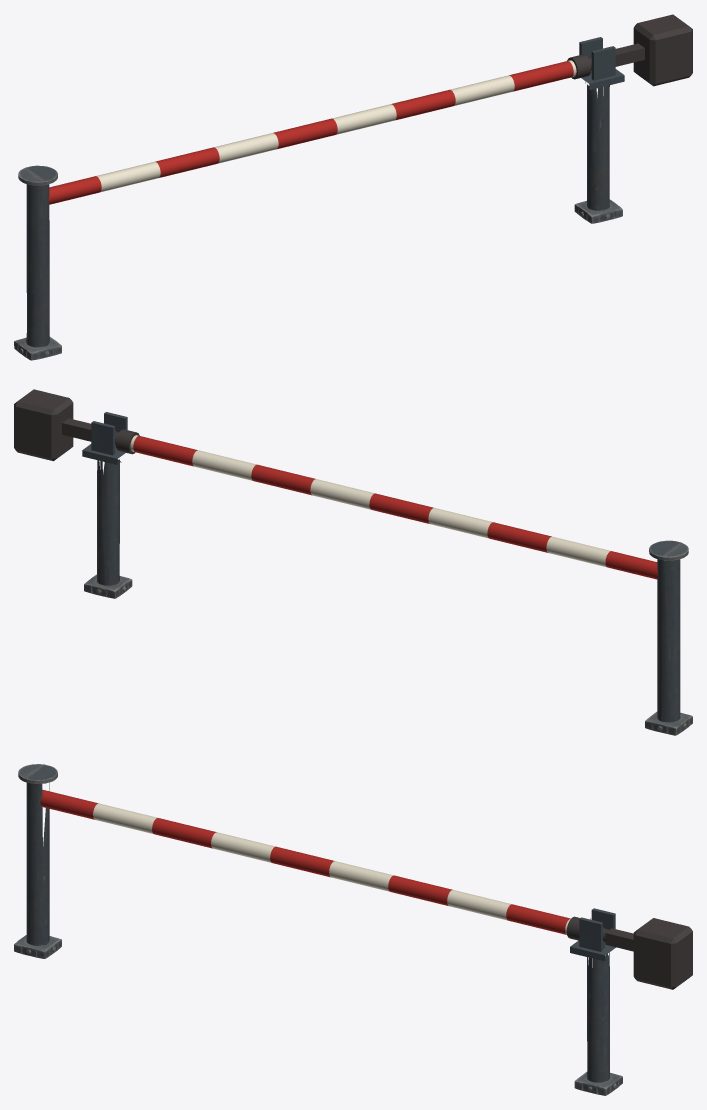
The model's file is checkpoint_boom_barrier.glb.
The picture shows the model from 3 angles, top to bottom: view 1: azimuth 30°, elevation 25°; view 2: azimuth 150°, elevation 25°; view 3: azimuth 330°, elevation 25°; orthographic projection.
Visible parts, largest first — view 1: main; view 2: main; view 3: main.
Boxes of the visible parts, x1,y1,x2,y2 form: main: [14, 14, 692, 360]; main: [14, 389, 692, 735]; main: [14, 764, 692, 1095].
Bounding box in the file's own units: 4.5 × 1.15 × 0.24.
4 materials, 1 textured.
